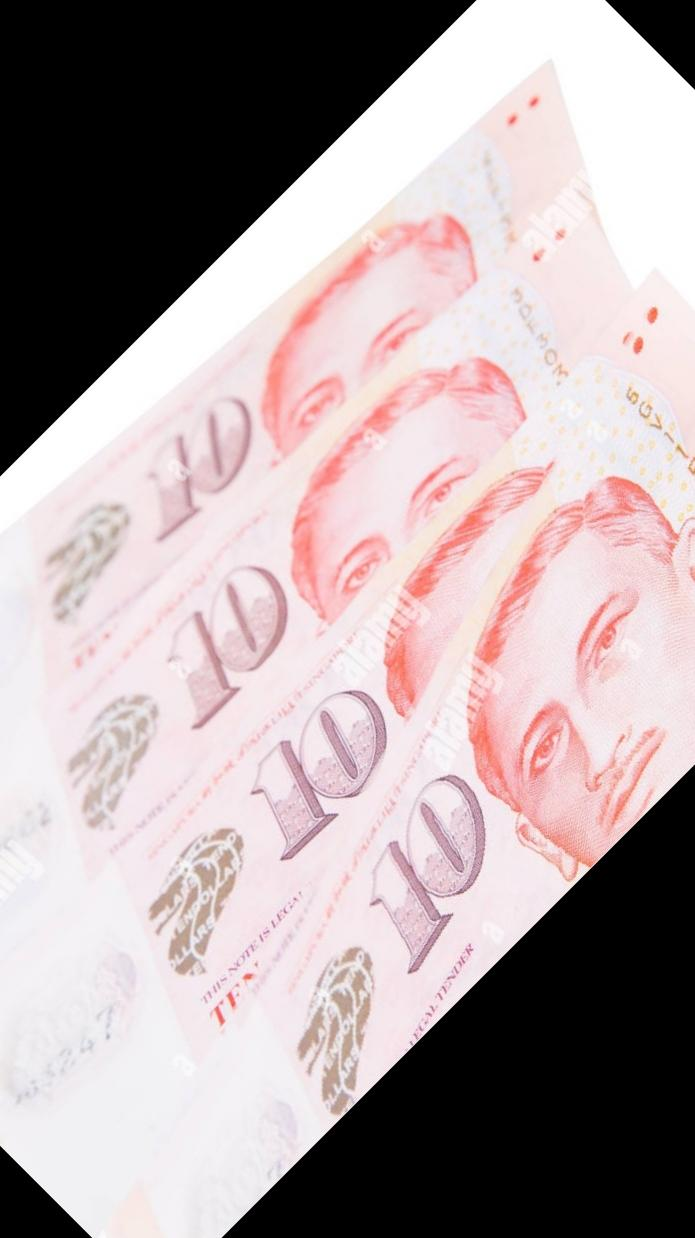10SingaporeDollar: (0, 298, 695, 1238)
